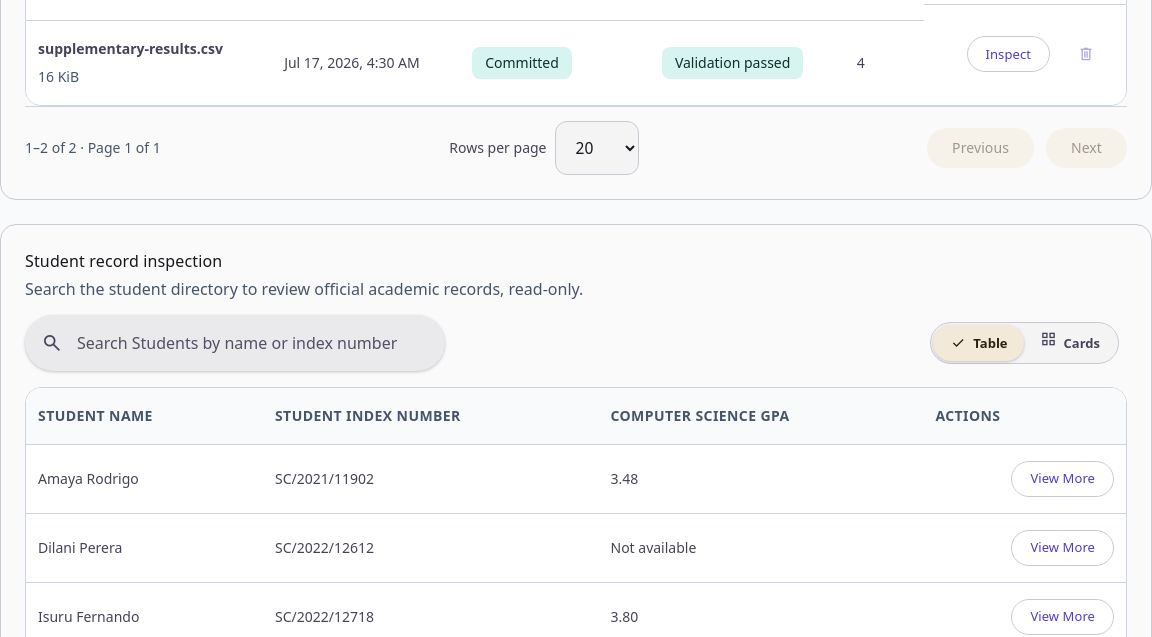
Scenario: Academic Ledger read-only inspection › searches the Student directory and opens official records in an accessible modal
(page scrolled)
Expected: the text "Not available" is shown, [598,514,923,583]
In the search field labelled "Search Students by name or index number": point(246, 343) [75,315,417,371], type "Lahiru"
(page scrolled)
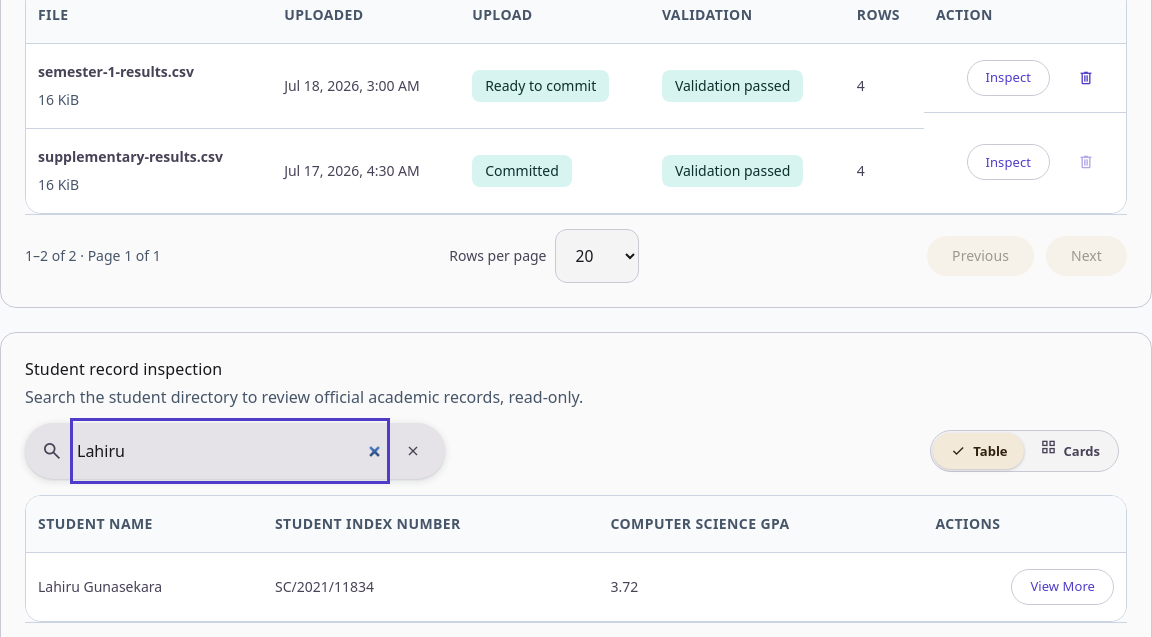
Expected: the text "Lahiru Gunasekara" is shown, [26,553,263,621]
Expected: the number of buttons "View More" is 1
Click the button "View More": point(1063, 587) [1011,569,1114,605]
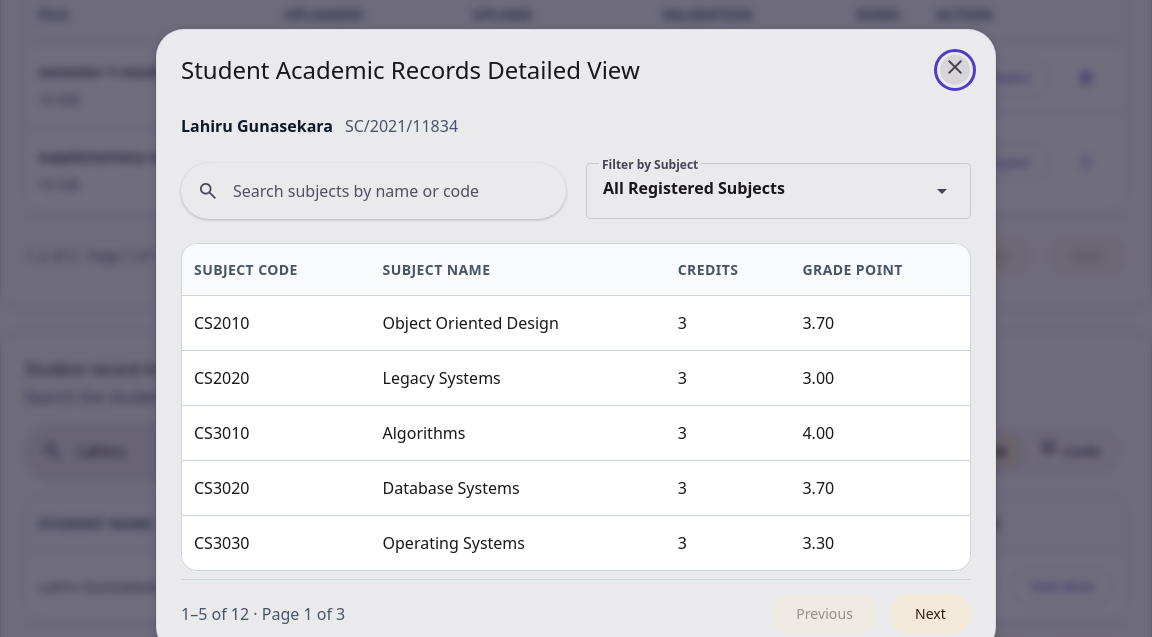
Expected: the table named "Official academic records for Lahiru Gunasekara" is shown, [182,244,971,570]
